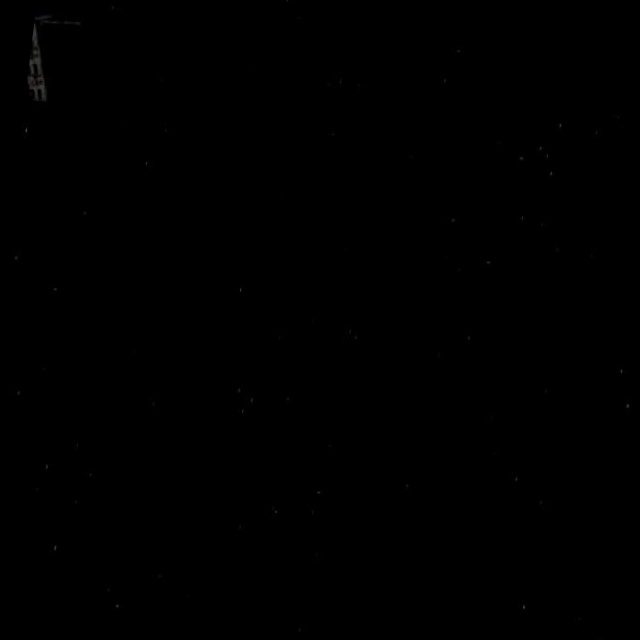satellite: (24, 2, 87, 114)
